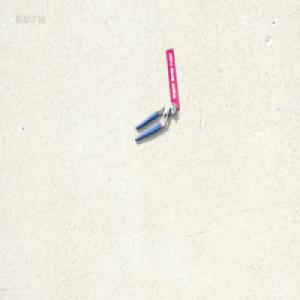Label: (165, 47, 179, 109)
Pliers: (134, 102, 176, 141)
